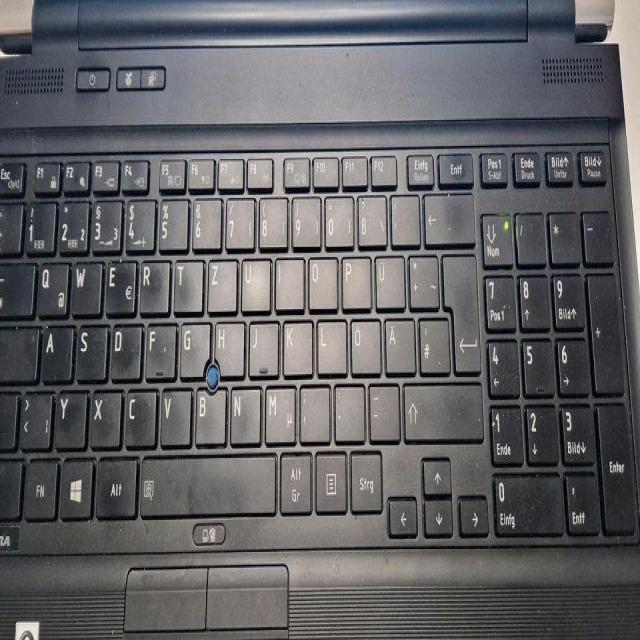0: (321, 188, 353, 244)
1: (23, 195, 55, 251)
2: (55, 194, 87, 250)
3: (88, 192, 120, 249)
4: (122, 192, 153, 247)
5: (155, 192, 186, 247)
6: (189, 191, 219, 246)
7: (223, 191, 253, 246)
8: (255, 191, 286, 246)
9: (289, 189, 319, 244)
a: (39, 320, 71, 379)
accent: (387, 188, 418, 241)
ae: (382, 311, 414, 370)
alt-left: (92, 450, 135, 515)
altgr-right: (278, 445, 312, 510)
b: (191, 380, 224, 442)
c: (123, 383, 155, 445)
caret: (0, 198, 20, 254)
comma: (297, 377, 329, 439)
d: (108, 317, 140, 379)
del: (420, 185, 472, 240)
e: (102, 253, 135, 312)
enter: (439, 244, 478, 370)
f: (142, 315, 173, 376)
g: (177, 315, 207, 374)
h: (211, 315, 243, 373)
hash: (416, 311, 448, 370)
i: (272, 250, 302, 306)
j: (245, 314, 276, 373)
k: (279, 312, 311, 373)
keyboard: (2, 113, 638, 558)
l: (313, 312, 345, 371)
less: (17, 385, 50, 447)
m: (261, 379, 294, 441)
minus: (366, 377, 398, 438)
n: (226, 379, 258, 441)
o: (305, 250, 335, 306)
oe: (347, 312, 378, 371)
p: (338, 249, 369, 307)
plus: (405, 247, 437, 305)
point: (332, 377, 364, 439)
q: (34, 256, 67, 315)
r: (136, 253, 168, 312)
s: (73, 318, 105, 378)
shift-lock: (0, 317, 37, 378)
shift-right: (400, 374, 482, 438)
space: (138, 445, 275, 513)
ss: (355, 188, 385, 243)
strg-right: (347, 444, 381, 509)
t: (170, 253, 201, 309)
tab: (1, 255, 33, 314)
u: (238, 252, 269, 310)
ue: (372, 249, 404, 307)
v: (157, 382, 189, 444)
w: (69, 254, 100, 312)
x: (87, 383, 119, 445)
y: (51, 383, 85, 445)
z: (205, 252, 235, 310)
